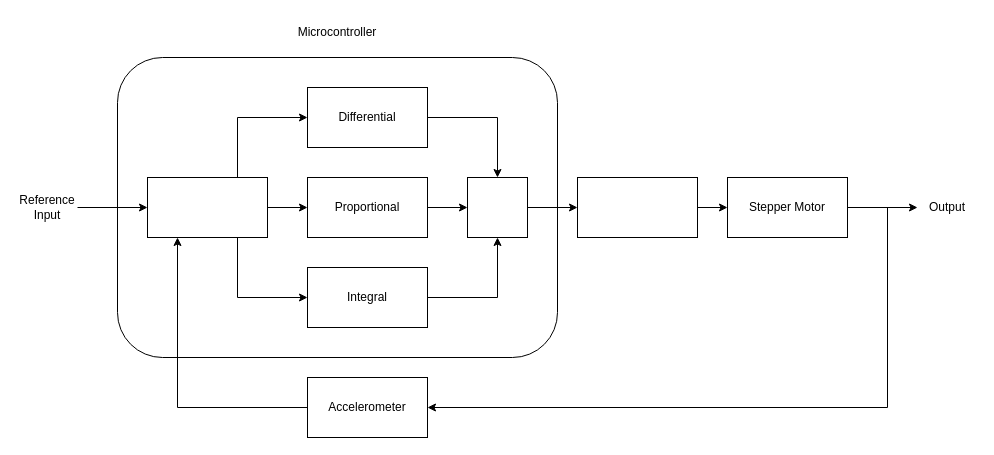
Image size: 994x455. Some labels were removed from this diagram. The box of each missing label's shape, as (x1, y1, x2, y2) in pixels:
Motor Driver: (576, 176, 698, 238)
Pitch: (146, 176, 268, 238)
Sum: (466, 176, 528, 238)
